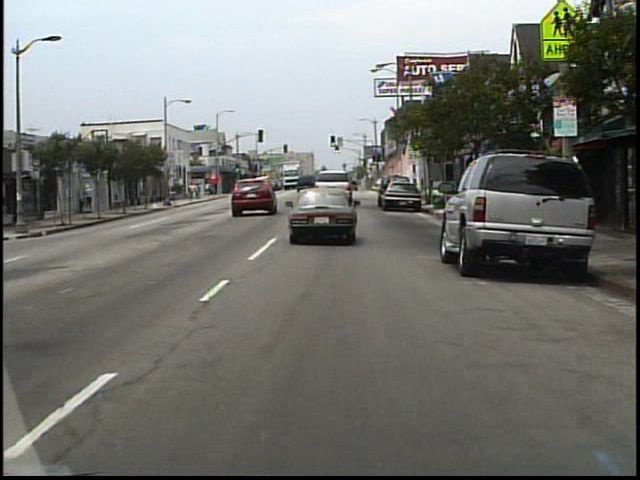person: (86, 184, 99, 214)
